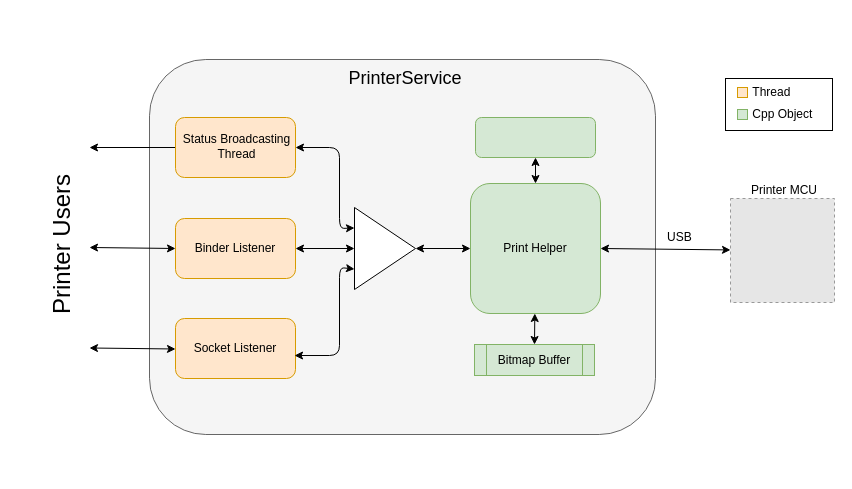
The diagram is 852 pixels wide and 489 high, and some of its shapes have lost their labels. Grey dashed boxes stand in for pictures. The shapes that lost their labels are listed below. From the top down, each one's centre as x and y in pixels, then its label:
At point (535, 137): "Font Util".
At point (385, 248): "Mutex".
